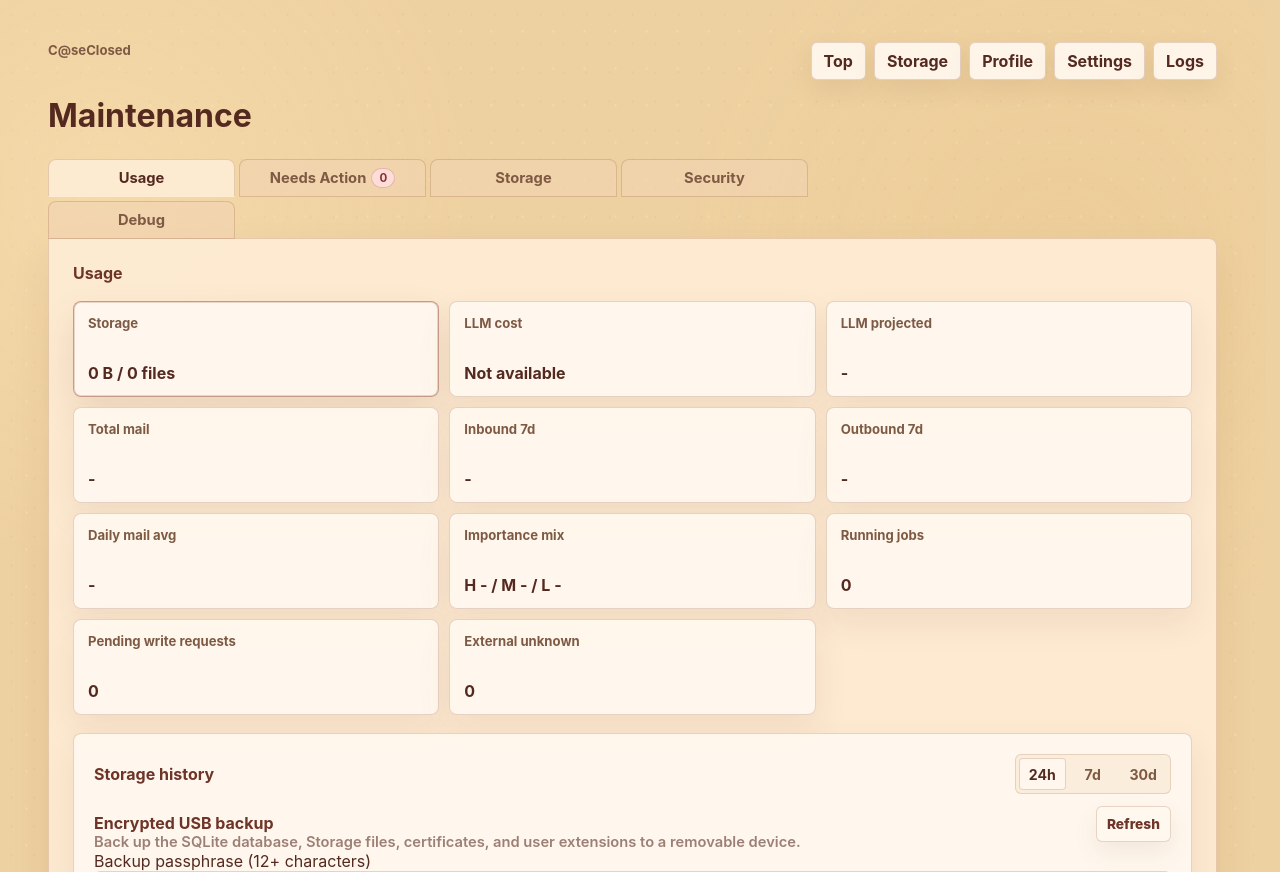
it: Phase 2 maintenance screen › opens the Usage maintenance tab without the recovery tables
Click the tab "Usage" at (142, 178), box 48,159 -> 235,197
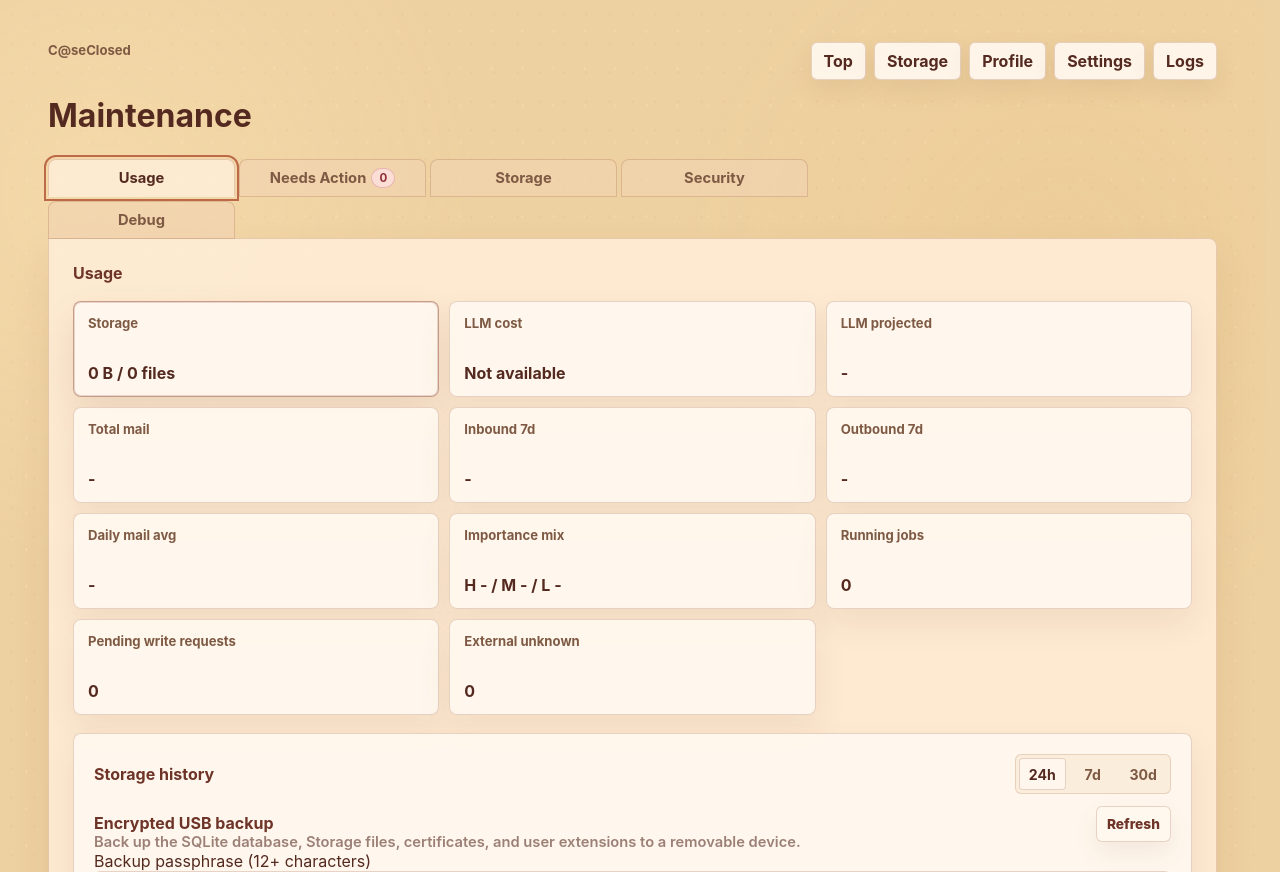
Expected: the heading "Usage" is shown, 73,263 -> 123,283
Expected: the number of buttons "LLM cost Not available" is 1, 449,301 -> 816,397
Click the button "7d" at (1093, 774), box 1069,758 -> 1117,790
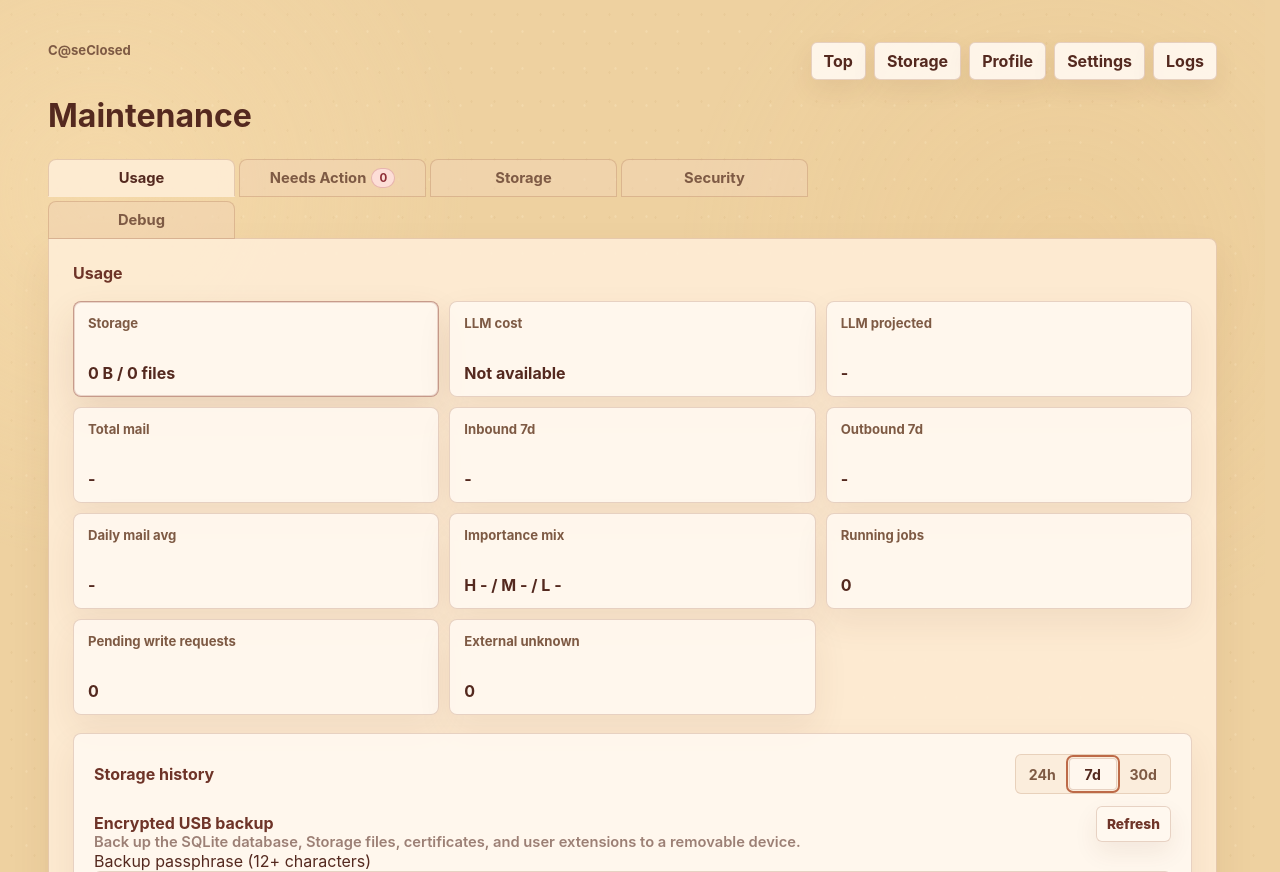
Expected: the heading "Storage history" is shown, 94,764 -> 214,784
Expected: the button "7d" is pressed, 1069,758 -> 1117,790
Click the button "Running jobs 0" at (882, 535), box 826,513 -> 1192,609
(page scrolled)
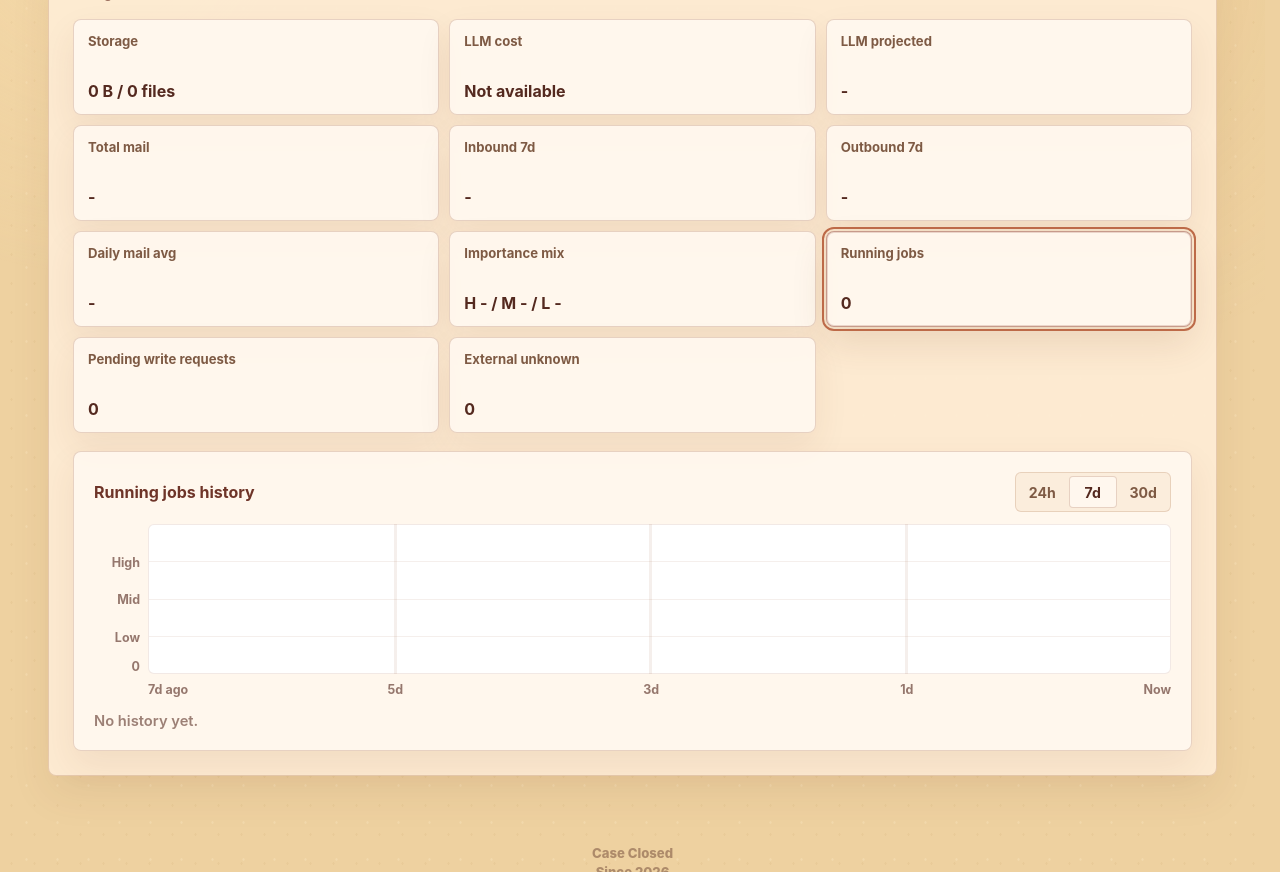
Expected: the heading "Running jobs history" is shown, 94,482 -> 255,502
Expected: the text "7d ago" is shown, 148,682 -> 188,697
Expected: the text "Now" is shown, 1143,682 -> 1171,697
